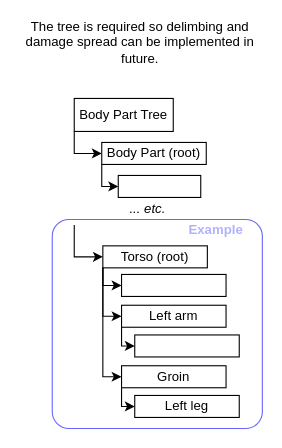
Some shapes in this 282 by 448 pixel diagram are drawn without their labels. The shapes that lost their labels are listed below. From the top down, each one's box as (x1, y1, x2, y2) in pixels, then its label:
(117, 174, 201, 197): Body Part
(120, 273, 226, 296): Head
(134, 334, 239, 357): Left hand
